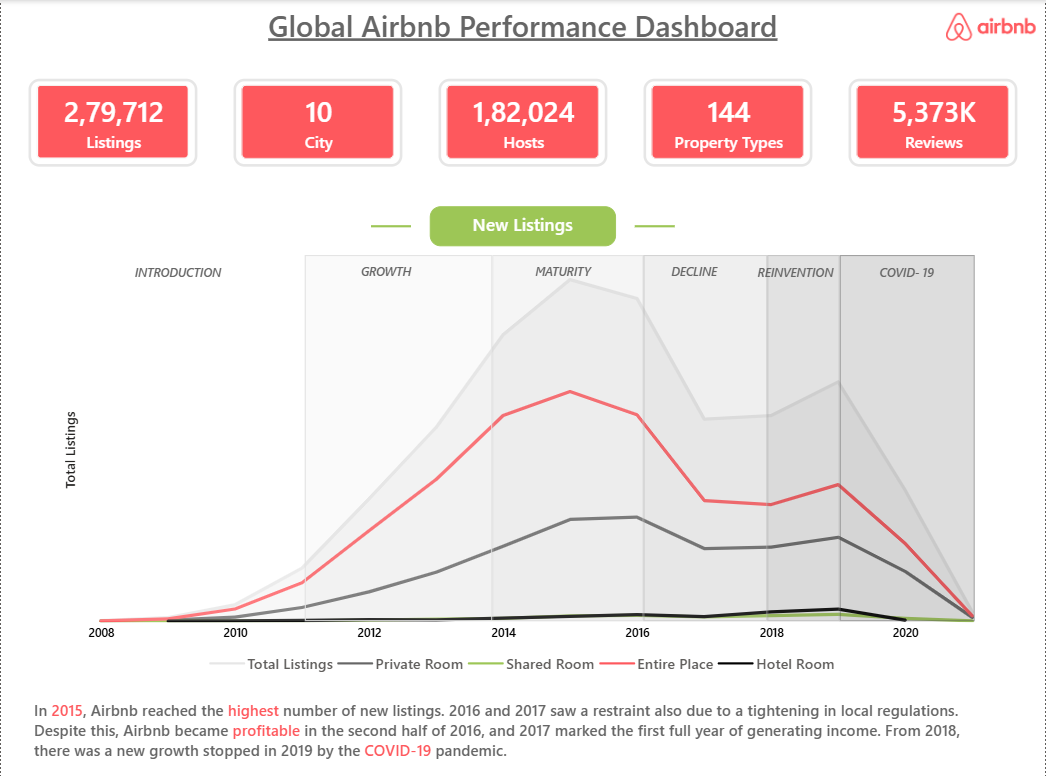

What the dashboard file says about the page in this screenshot:
{"tool":"powerbi","page":{"name":"Overview","canvas":[960,720],"ordinal":0},"visuals":[{"type":"textbox","box":[180.3,0,598.5,57.4],"z":0},{"type":"image","box":[868.4,4.6,82.7,40.2],"z":1000},{"type":"cardVisual","fields":{"Data":["Count(Listings.city)"]},"box":[213.7,72.8,155.1,80.4],"z":2000},{"type":"cardVisual","fields":{"Data":["Count(Listings.property_type)"]},"box":[590.4,72.8,155.1,80.4],"z":3000},{"type":"cardVisual","fields":{"Data":["Count(Listings.listing_id)"]},"box":[25.3,72.8,155.1,80.4],"z":4000},{"type":"cardVisual","fields":{"Data":["CountNonNull(Reviews.review_id)"]},"box":[778.8,72.8,155.1,80.4],"z":5000},{"type":"cardVisual","fields":{"Data":["Count(Listings.host_id)"]},"box":[402,72.8,155.1,80.4],"z":6000},{"type":"lineChart","fields":{"Category":["Listings.host_since.Variation.Date Hierarchy.Year"],"Y":["CountNonNull(Listings.listing_id)","Listings.Private Room","Listings.Shared Room","Listings.Entire Place","Listings.Hotel Room"]},"box":[54,242.4,855.8,386],"z":7000},{"type":"textbox","box":[394.4,189.5,171.2,36.8],"z":8000},{"type":"shape","box":[340,191.8,36.8,32.2],"z":9000},{"type":"shape","box":[582.4,191.8,36.8,32.2],"z":10000},{"type":"shape","box":[83.9,234.3,195.3,336.6],"z":11000},{"type":"shape","box":[279.1,234.3,172.3,336.6],"z":12000},{"type":"shape","box":[451.4,234.3,139,336.6],"z":13000},{"type":"shape","box":[590.4,234.3,113.7,336.6],"z":13001},{"type":"shape","box":[704.2,234.3,66.6,336.6],"z":13002},{"type":"shape","box":[770.8,234.3,124.1,336.6],"z":13003},{"type":"textbox","box":[111.4,235.5,102.2,28.7],"z":13004},{"type":"textbox","box":[313.6,234.3,80.4,28.7],"z":13005},{"type":"textbox","box":[475.6,234.3,81.6,27.6],"z":13006},{"type":"textbox","box":[605.4,234.3,63.2,29.9],"z":13007},{"type":"textbox","box":[689.2,235.5,81.6,31],"z":13008},{"type":"textbox","box":[800.6,235.5,63.2,27.6],"z":13009},{"type":"textbox","box":[25.3,637.5,908.6,72.4],"z":13010}]}

Visuals, with their boxes in screenshot pixels (x1, y1, x2, y2), scaled from the page's 960x720 canvas onto the 1046x776 screenshot:
textbox: Rect(196, 0, 849, 62)
image: Rect(946, 5, 1036, 48)
cardVisual - Count(Listings.city): Rect(233, 78, 402, 165)
cardVisual - Count(Listings.property_type): Rect(643, 78, 812, 165)
cardVisual - Count(Listings.listing_id): Rect(28, 78, 197, 165)
cardVisual - CountNonNull(Reviews.review_id): Rect(849, 78, 1018, 165)
cardVisual - Count(Listings.host_id): Rect(438, 78, 607, 165)
lineChart - Listings.host_since.Variation.Date Hierarchy.Year x CountNonNull(Listings.listing_id): Rect(59, 261, 991, 677)
textbox: Rect(430, 204, 616, 244)
shape: Rect(370, 207, 411, 241)
shape: Rect(635, 207, 675, 241)
shape: Rect(91, 253, 304, 615)
shape: Rect(304, 253, 492, 615)
shape: Rect(492, 253, 643, 615)
shape: Rect(643, 253, 767, 615)
shape: Rect(767, 253, 840, 615)
shape: Rect(840, 253, 975, 615)
textbox: Rect(121, 254, 233, 285)
textbox: Rect(342, 253, 429, 283)
textbox: Rect(518, 253, 607, 282)
textbox: Rect(660, 253, 728, 285)
textbox: Rect(751, 254, 840, 287)
textbox: Rect(872, 254, 941, 284)
textbox: Rect(28, 687, 1018, 765)
